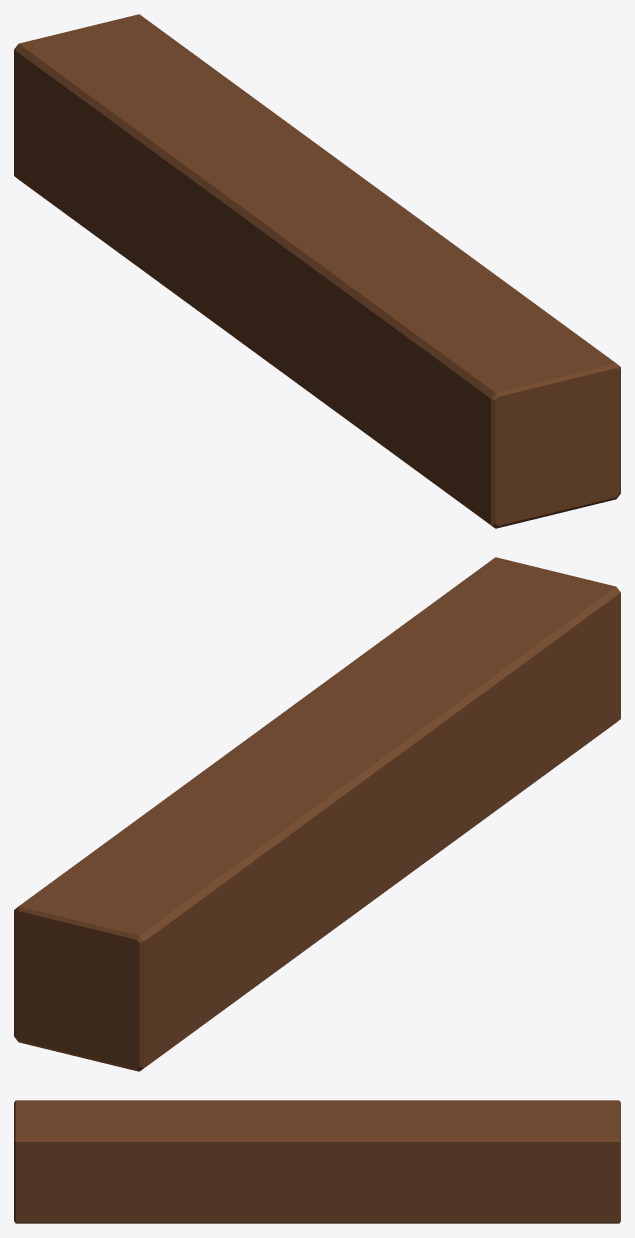
File: LongBox.fbx
The picture shows the model from 3 angles, top to bottom: view 1: azimuth 30°, elevation 25°; view 2: azimuth 150°, elevation 25°; view 3: azimuth 270°, elevation 25°; orthographic projection. The views are drawn at different scales.
Visible parts, largest first — view 1: 16. kyu 2.001; view 2: 16. kyu 2.001; view 3: 16. kyu 2.001.
Part boxes in pixels (<box>): 16. kyu 2.001: <box>14,14,620,528</box>; 16. kyu 2.001: <box>14,557,620,1071</box>; 16. kyu 2.001: <box>14,1100,620,1223</box>.
Size of the model in its own units: 26.8 by 26.8 by 171.
